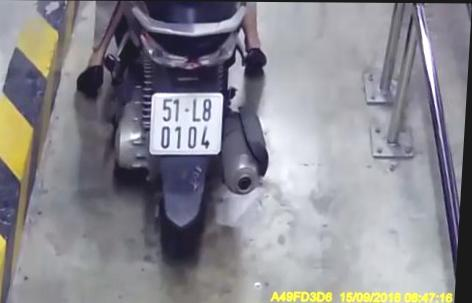License_Plate: (140, 89, 230, 163)
